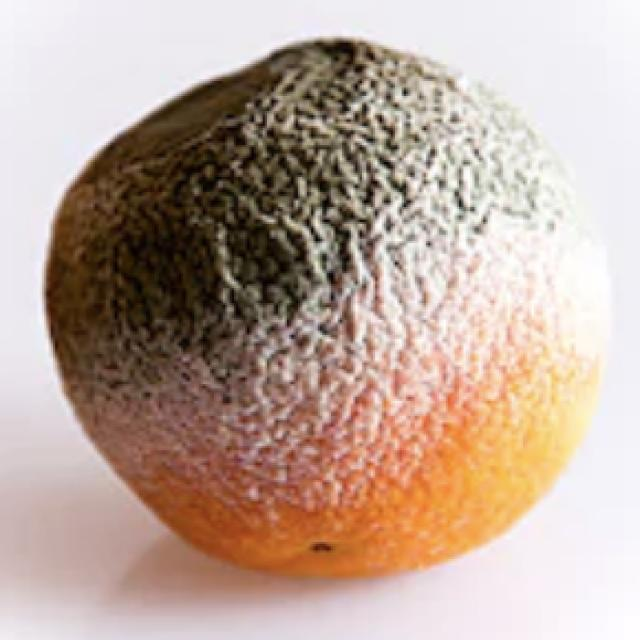sangat-busuk: (45, 38, 608, 574)
